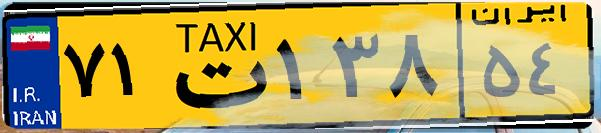1: (270, 28, 330, 110), (110, 28, 158, 98)
3: (330, 28, 385, 110)
4: (525, 38, 570, 115)
5: (475, 38, 525, 113)
7: (57, 26, 110, 100)
8: (385, 28, 445, 110)
ت: (158, 12, 270, 120)
